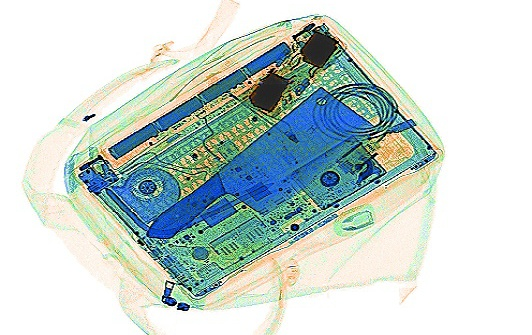knife: (144, 84, 376, 239)
